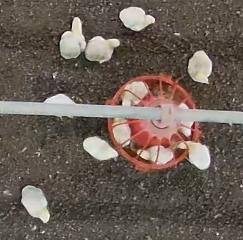chick: (21, 184, 50, 223), (58, 16, 84, 59), (85, 36, 121, 64), (177, 139, 209, 170), (119, 6, 156, 32), (82, 136, 119, 162), (43, 93, 77, 120), (189, 49, 213, 84), (118, 82, 149, 107), (137, 144, 175, 163), (112, 112, 131, 149), (177, 102, 194, 138)
rice: (106, 74, 202, 171)
